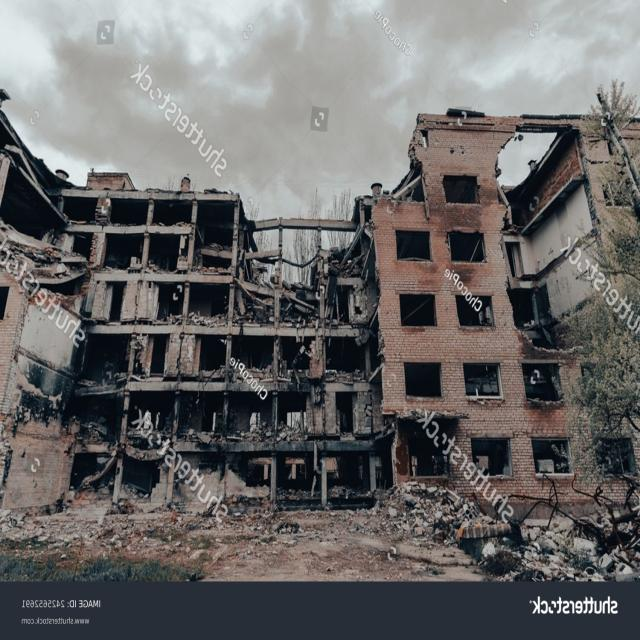Destroyed_building: (0, 2, 637, 584)
